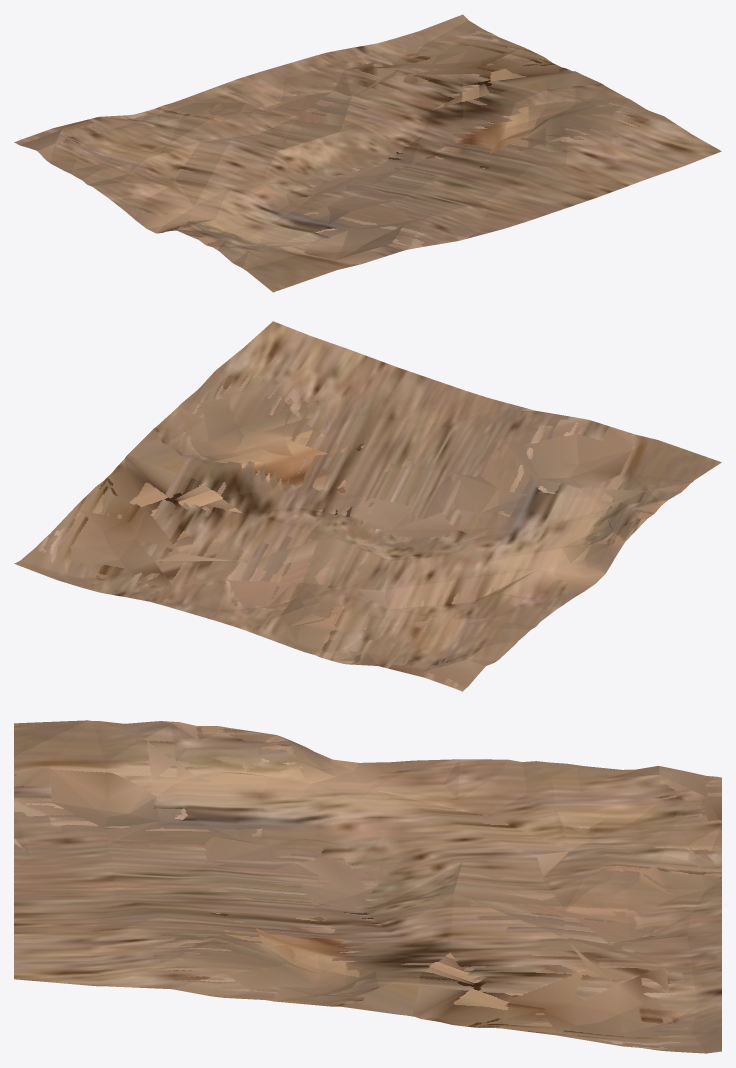
The picture shows the model from 3 angles, top to bottom: view 1: azimuth 30°, elevation 25°; view 2: azimuth 150°, elevation 25°; view 3: azimuth 270°, elevation 25°; orthographic projection. The views are drawn at different scales.
Bounding box in the file's own units: 1.04 × 0.163 × 1.04.
Materials: 2 (2 with a texture image).
